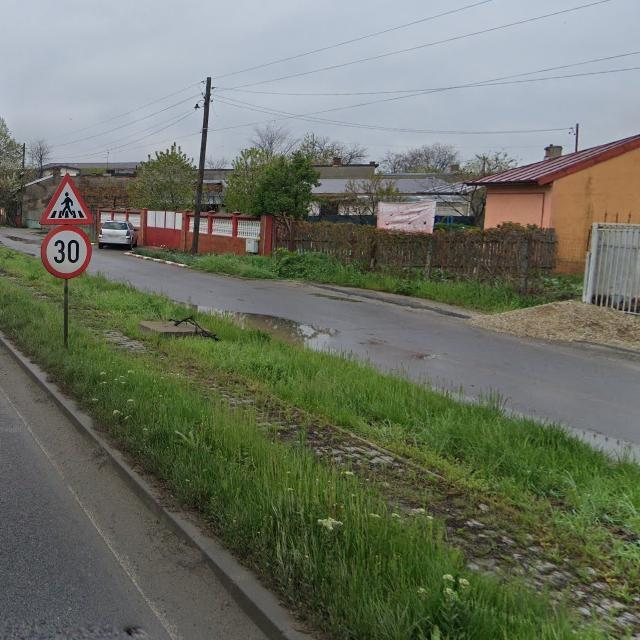forb_speed_over_30: (41, 226, 93, 277)
warn_crosswalk: (41, 176, 93, 227)
